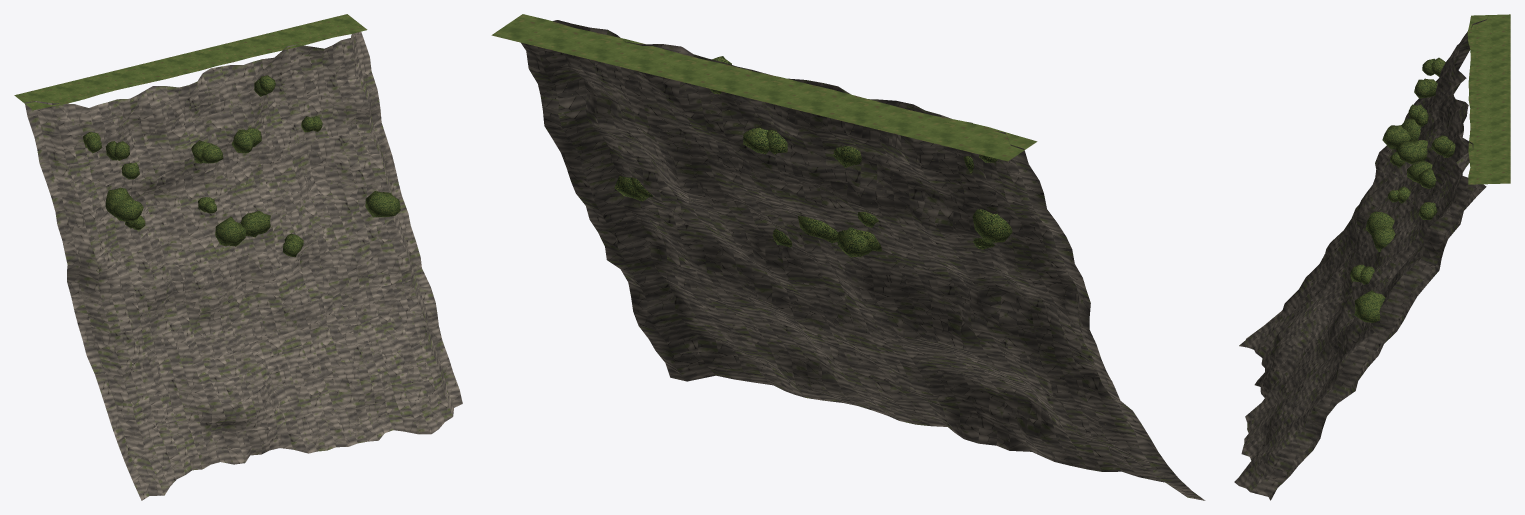
Rendered from cliff_rock_b.gltf.
3 renders of one model, left to right at view 1: azimuth 30°, elevation 25°; view 2: azimuth 150°, elevation 25°; view 3: azimuth 270°, elevation 25°, orthographic. The views are drawn at different scales.
Visible parts, largest first — view 1: cliff_rock_b_mesh; view 2: cliff_rock_b_mesh; view 3: cliff_rock_b_mesh.
Boxes of the visible parts, x1,y1,x2,y2 form: cliff_rock_b_mesh: (14,14,462,500); cliff_rock_b_mesh: (491,14,1205,500); cliff_rock_b_mesh: (1234,14,1510,500).
Bounding box in the file's own units: 48 × 43.07 × 33.19.
3 materials, 3 textured.
